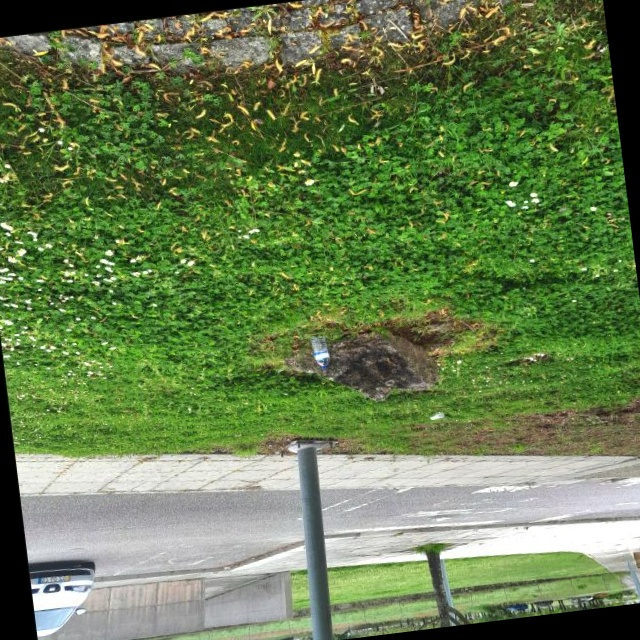Plastic-bottle: (302, 327, 330, 373)
